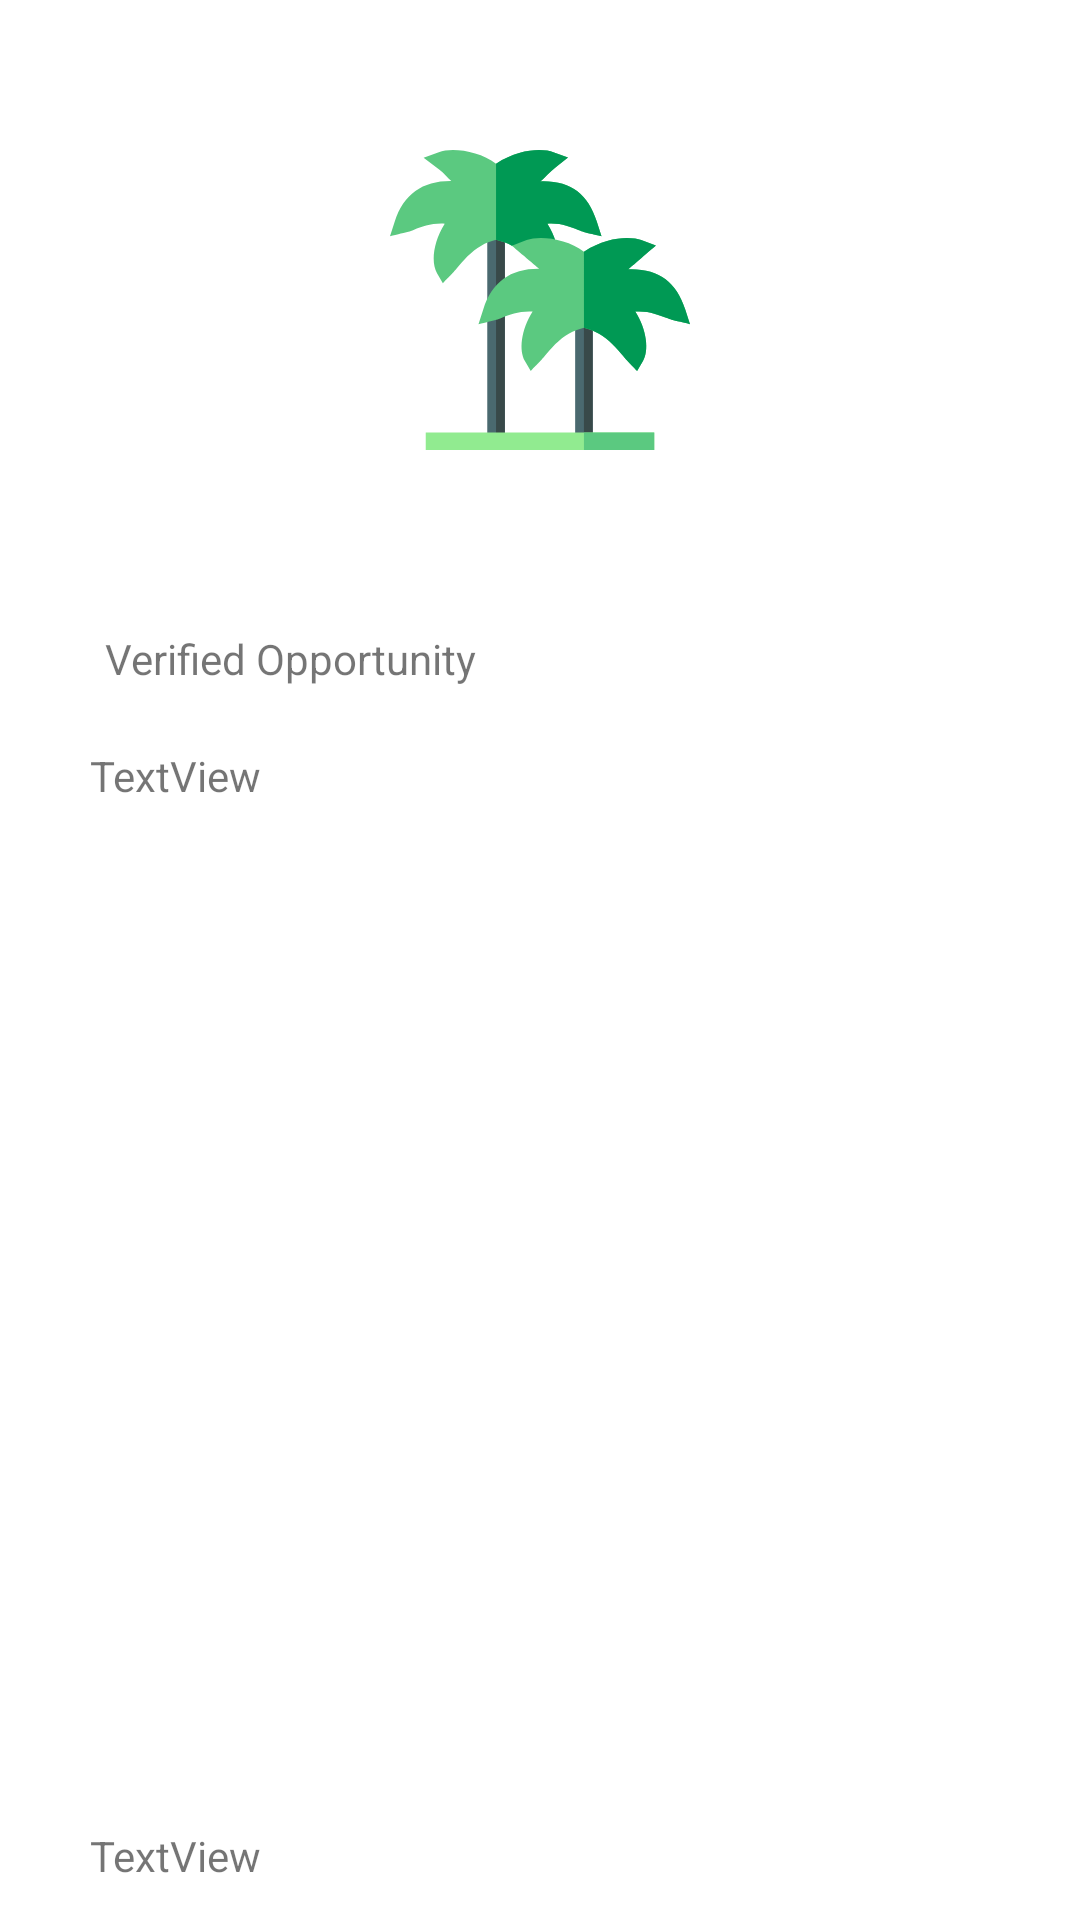

Icon bounding boxes for this 1080*1920 phone screenshot, format (x1,y1,x2,y2):
palm trees: (390,150,690,450)
